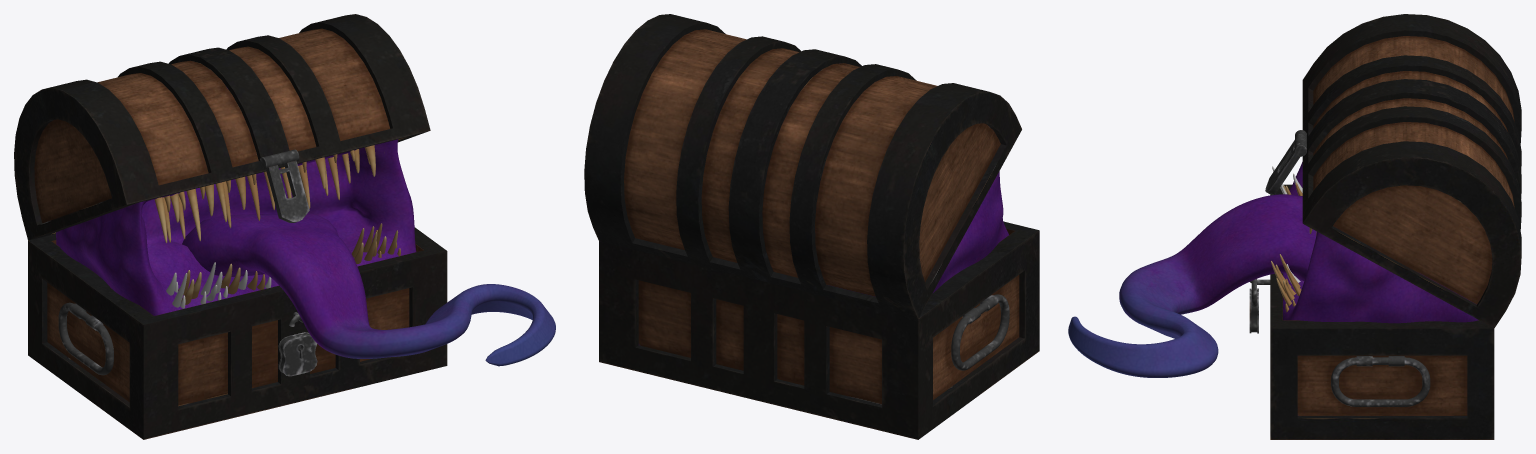
File: mimique.glb
The picture shows the model from 3 angles, left to right: view 1: azimuth 30°, elevation 25°; view 2: azimuth 150°, elevation 25°; view 3: azimuth 270°, elevation 25°; orthographic projection. The views are drawn at different scales.
Visible parts, largest first — view 1: Top1, Base1, Tongue2, Mouth1, TopLatch1, LedtHandle1, Lock1; view 2: Top1, Base1, Mouth1, LedtHandle1; view 3: Top1, Base1, Tongue2, Mouth1, RightHandle1, TopLatch1.
Part boxes in pixels (box(x1,y1,x2,y2)): Top1: box(14, 14, 430, 240); Base1: box(28, 227, 447, 439); Tongue2: box(182, 213, 555, 366); Mouth1: box(56, 139, 416, 315); TopLatch1: box(260, 149, 309, 222); LedtHandle1: box(58, 302, 113, 375); Lock1: box(278, 332, 317, 376); Top1: box(584, 14, 1021, 318); Base1: box(599, 221, 1039, 439); Mouth1: box(932, 171, 1008, 293); LedtHandle1: box(951, 294, 1009, 370); Top1: box(1302, 14, 1521, 328); Base1: box(1270, 184, 1494, 439); Tongue2: box(1068, 194, 1316, 377); Mouth1: box(1283, 162, 1478, 323); RightHandle1: box(1331, 356, 1430, 406); TopLatch1: box(1265, 130, 1306, 195).
Bounding box in the file's own units: 6.44 × 5.15 × 7.5.
1 material, 1 textured.
